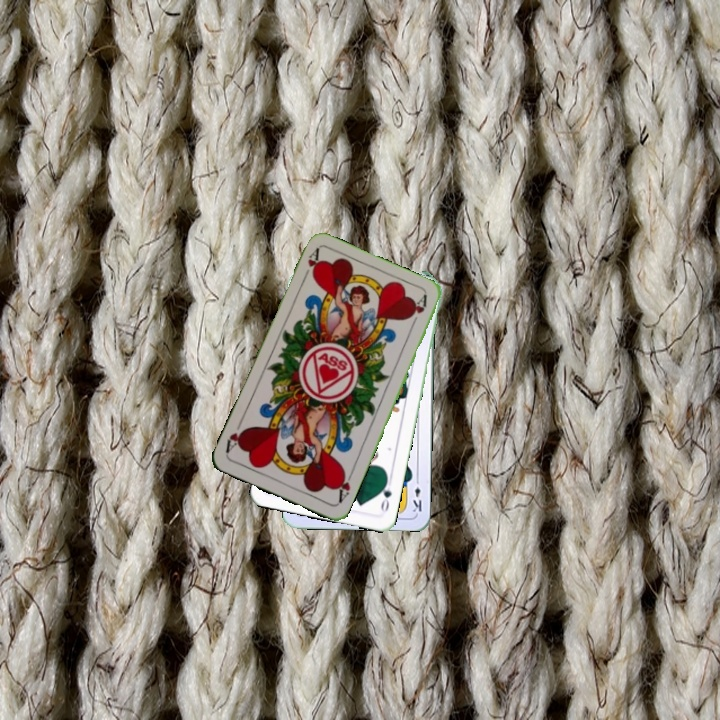EK: (409, 474, 424, 515)
GO: (376, 475, 394, 515)
HA: (332, 466, 356, 505), (299, 245, 323, 284)
